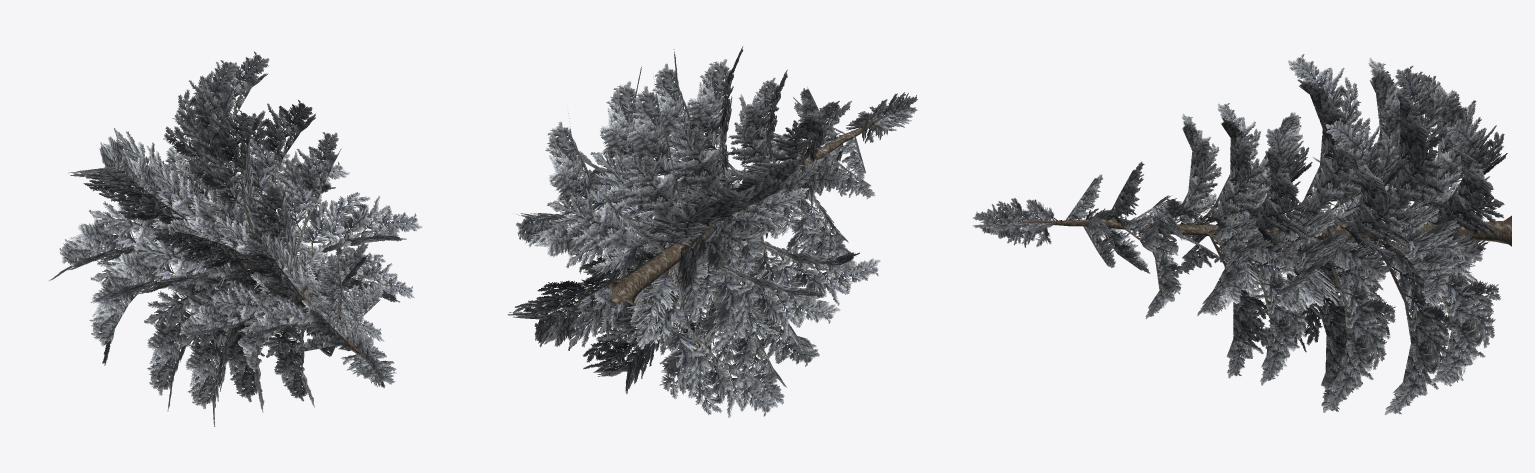
The model's file is Conifer 05 GameReady _afsTREE.FBX.
3 views of the same model, side by side, from view 1: azimuth 30°, elevation 25°; view 2: azimuth 150°, elevation 25°; view 3: azimuth 270°, elevation 25° (orthographic). The views are drawn at different scales.
Visible parts, largest first — view 1: Leafs017, Leafs013, Leafs008, Leafs016, Leafs014, Leafs018, Leafs010, Leafs009, Leafs019, Leafs012, Leafs021, Leafs023 (+19 smaller); view 2: Leafs005, Leafs004, Leafs003, Leafs009, Leafs002, Leafs017, Leafs008, Leafs014, Trunk, Leafs012, Leafs006, Leafs010 (+15 smaller); view 3: Leafs011, Leafs017, Leafs012, Leafs008, Leafs006, Leafs002, Leafs003, Trunk, Leafs020, Leafs021, Leafs016, Leafs007 (+17 smaller).
Part boxes in pixels (bbox=[...]): Leafs017: bbox=[190, 110, 260, 260]; Leafs013: bbox=[93, 154, 233, 251]; Leafs008: bbox=[163, 60, 239, 215]; Leafs016: bbox=[278, 192, 422, 262]; Leafs014: bbox=[90, 226, 248, 303]; Leafs018: bbox=[153, 215, 285, 292]; Leafs010: bbox=[144, 238, 246, 411]; Leafs009: bbox=[49, 198, 186, 280]; Leafs019: bbox=[180, 257, 264, 426]; Leafs012: bbox=[212, 100, 315, 236]; Leafs021: bbox=[253, 132, 341, 268]; Leafs023: bbox=[179, 272, 295, 339]; Leafs005: bbox=[630, 264, 777, 417]; Leafs004: bbox=[635, 178, 808, 291]; Leafs003: bbox=[545, 113, 665, 279]; Leafs009: bbox=[678, 240, 840, 339]; Leafs002: bbox=[507, 248, 662, 350]; Leafs017: bbox=[663, 46, 743, 207]; Leafs008: bbox=[616, 77, 694, 246]; Leafs014: bbox=[718, 217, 880, 308]; Trunk: bbox=[608, 92, 917, 305]; Leafs012: bbox=[590, 67, 694, 247]; Leafs006: bbox=[582, 247, 695, 393]; Leafs010: bbox=[680, 228, 786, 405]; Leafs011: bbox=[1315, 231, 1395, 412]; Leafs017: bbox=[1287, 54, 1370, 241]; Leafs012: bbox=[1325, 117, 1409, 260]; Leafs008: bbox=[1368, 66, 1451, 242]; Leafs006: bbox=[1371, 239, 1451, 415]; Leafs002: bbox=[1413, 229, 1500, 386]; Leafs003: bbox=[1418, 119, 1507, 253]; Trunk: bbox=[972, 198, 1511, 247]; Leafs020: bbox=[1237, 232, 1308, 385]; Leafs021: bbox=[1247, 127, 1312, 251]; Leafs016: bbox=[1268, 212, 1345, 312]; Leafs007: bbox=[1380, 204, 1465, 306].
Size of the model in its own units: 11.62 by 14.41 by 11.6.
2 materials, 2 textured.
